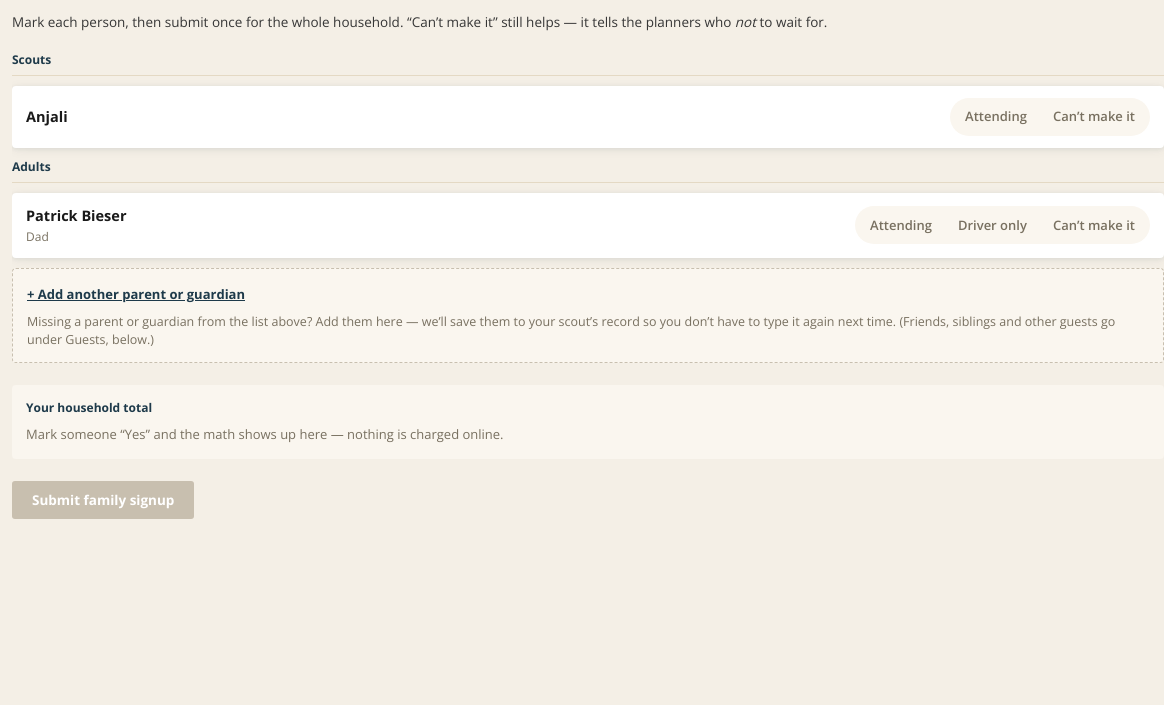
PersonFirstForm — days attending › Days_CannotGoBelowOne
Click the button "Attending" in the row of "Anjali".
click(996, 117)  # box x1=953 y1=101 x2=1039 y2=133
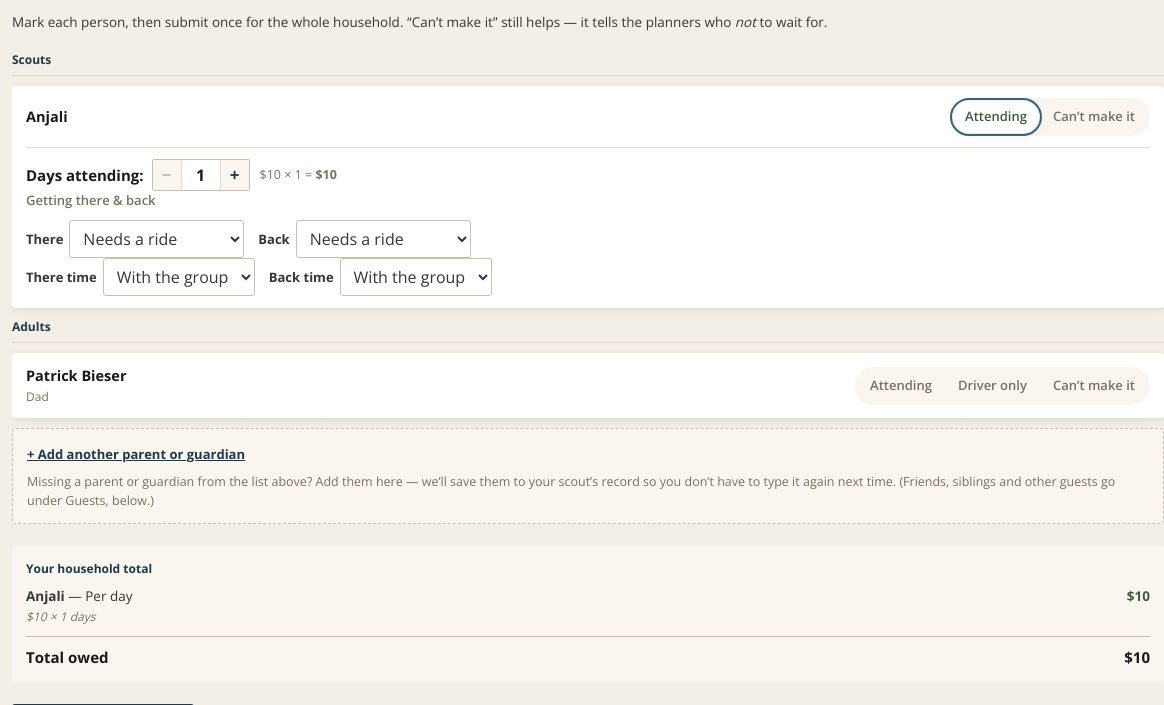
Check: the button named "One fewer day" is disabled, box x1=152 y1=160 x2=180 y2=190
